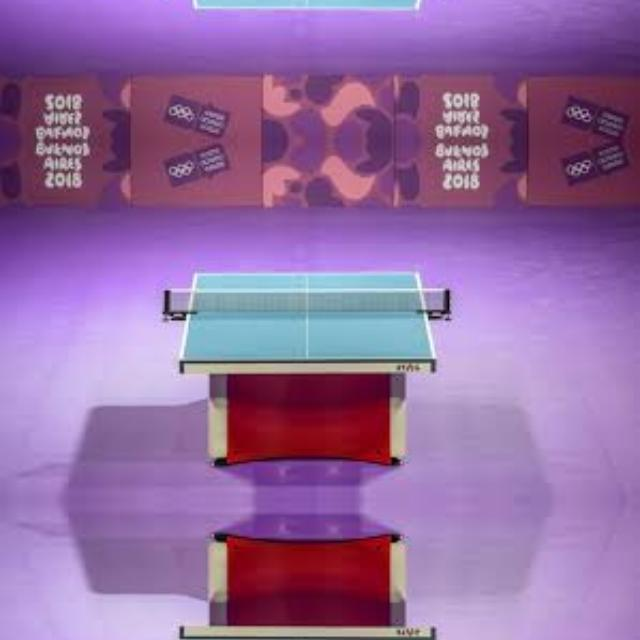obstacle: (166, 225, 464, 468), (166, 532, 463, 640), (166, 0, 463, 55)
